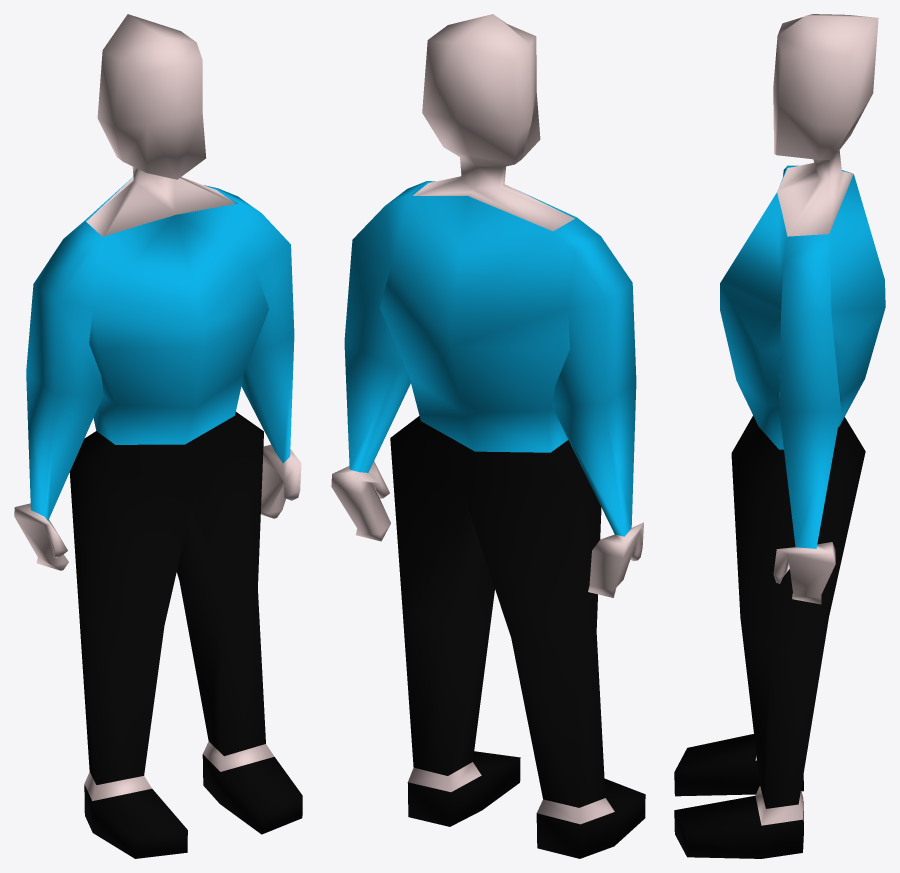
The model's file is poppetjeLB.gltf.
The picture shows the model from 3 angles, left to right: view 1: azimuth 30°, elevation 25°; view 2: azimuth 150°, elevation 25°; view 3: azimuth 270°, elevation 25°; orthographic projection. The views are drawn at different scales.
Visible parts, largest first — view 1: Cube; view 2: Cube; view 3: Cube.
Boxes of the visible parts, bbox=[...] form: Cube: bbox=[14, 14, 302, 858]; Cube: bbox=[331, 14, 645, 858]; Cube: bbox=[674, 14, 885, 858].
Size of the model in its own units: 2.43 by 6.54 by 1.57.
